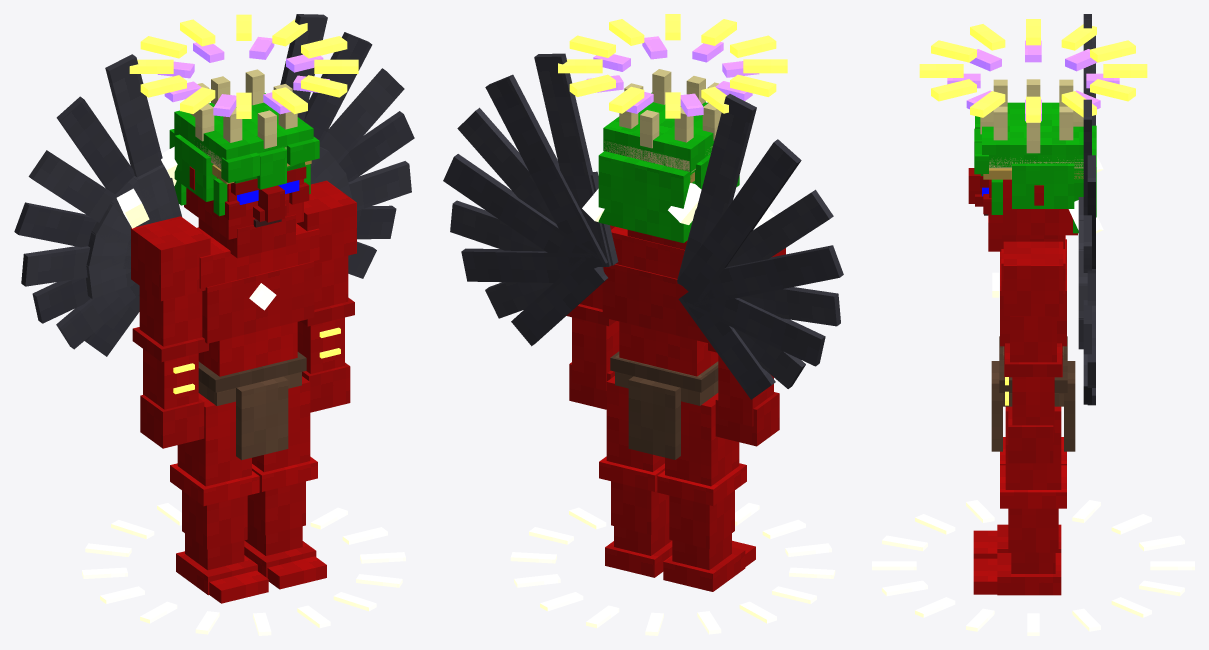
The model's file is angel_s2_evo3.glb.
3 renders of one model, left to right at view 1: azimuth 30°, elevation 25°; view 2: azimuth 150°, elevation 25°; view 3: azimuth 270°, elevation 25°, orthographic.
Parts seen in each view (by area): view 1: Torso, Head, ArmR, LegR, LegL, ArmL, Root; view 2: Torso, Head, LegR, LegL, Root, ArmL, ArmR; view 3: Head, ArmL, LegL, Torso, Root, LegR.
Part boxes in pixels (box(x1,y1,x2,y2)): Torso: box(14, 14, 414, 460); Head: box(129, 14, 358, 258); ArmR: box(131, 216, 210, 448); LegR: box(170, 393, 268, 603); LegL: box(244, 376, 326, 589); ArmL: box(297, 180, 356, 412); Root: box(82, 503, 405, 635); Torso: box(443, 53, 843, 459); Head: box(558, 14, 787, 249); LegR: box(657, 393, 755, 591); LegL: box(599, 376, 672, 577); Root: box(510, 503, 835, 635); ArmL: box(566, 225, 619, 409); ArmR: box(708, 248, 785, 446); Head: box(919, 19, 1147, 251); ArmL: box(1003, 241, 1063, 463); LegL: box(973, 406, 1066, 595); Torso: box(991, 14, 1103, 451); Root: box(872, 500, 1194, 635); LegR: box(973, 437, 1066, 558).
Bounding box in the file's own units: 1.63 × 2.02 × 1.16.
Materials: 27 (27 with a texture image).
